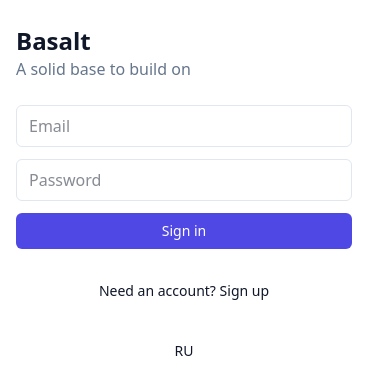
Test: LoginScreen › explains when the service is unavailable
Type "pavel@example.com" into the field labelled "Email" at (184, 126), box [16,105,352,147]
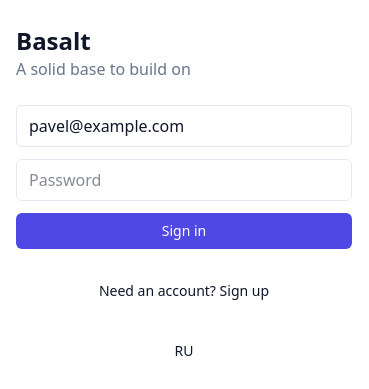
Type "secret-123" into the password field labelled "Password" at (184, 180), box [16,159,352,201]
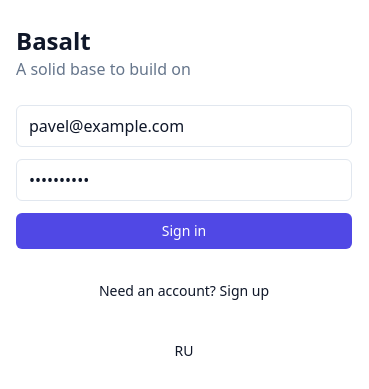
Click the button "Sign in" at (184, 231), box [16,213,352,249]
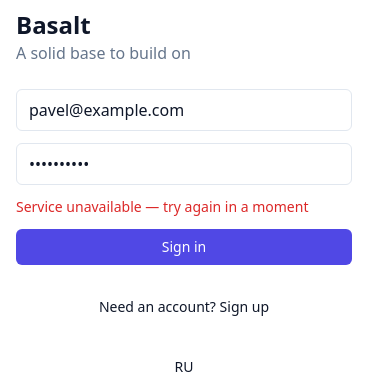
Check: the message reads "Service unavailable — try again in a moment", box [16,197,308,216]
